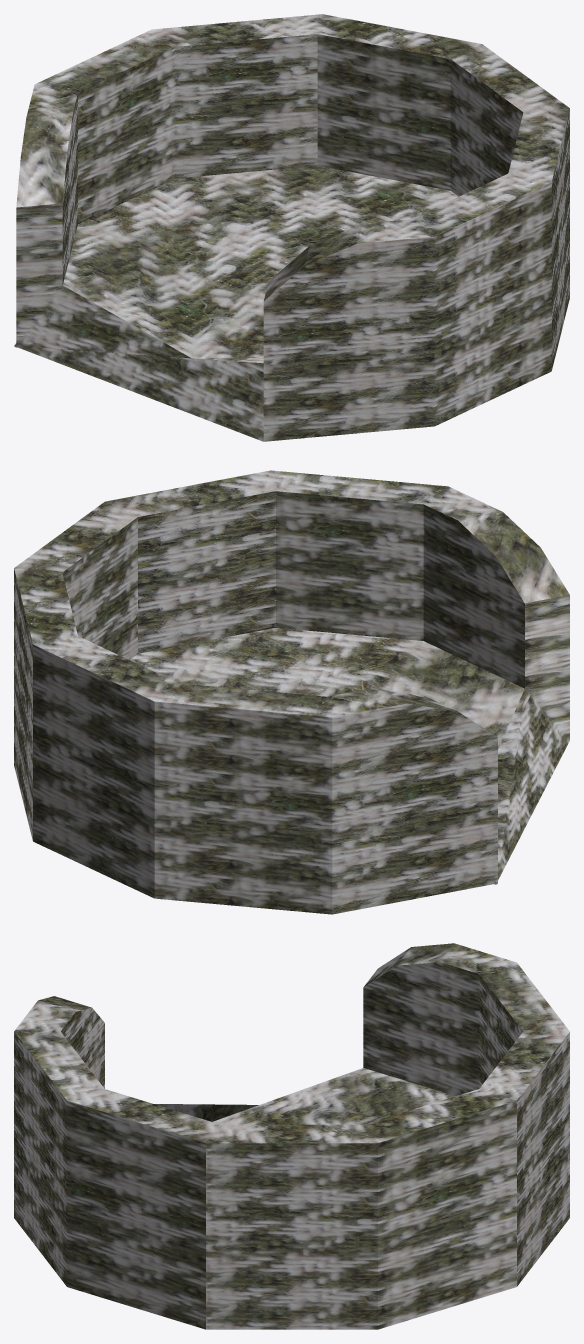
The model's file is catbed.glb.
The picture shows the model from 3 angles, top to bottom: view 1: azimuth 30°, elevation 25°; view 2: azimuth 150°, elevation 25°; view 3: azimuth 270°, elevation 25°; orthographic projection. The views are drawn at different scales.
Visible parts, largest first — view 1: Cylinder; view 2: Cylinder; view 3: Cylinder.
Boxes of the visible parts, bbox=[...] form: Cylinder: bbox=[14, 14, 569, 441]; Cylinder: bbox=[14, 470, 569, 914]; Cylinder: bbox=[14, 943, 569, 1329].
Bounding box in the file's own units: 1.9 × 0.7399 × 2.
Materials: 1 (1 with a texture image).
